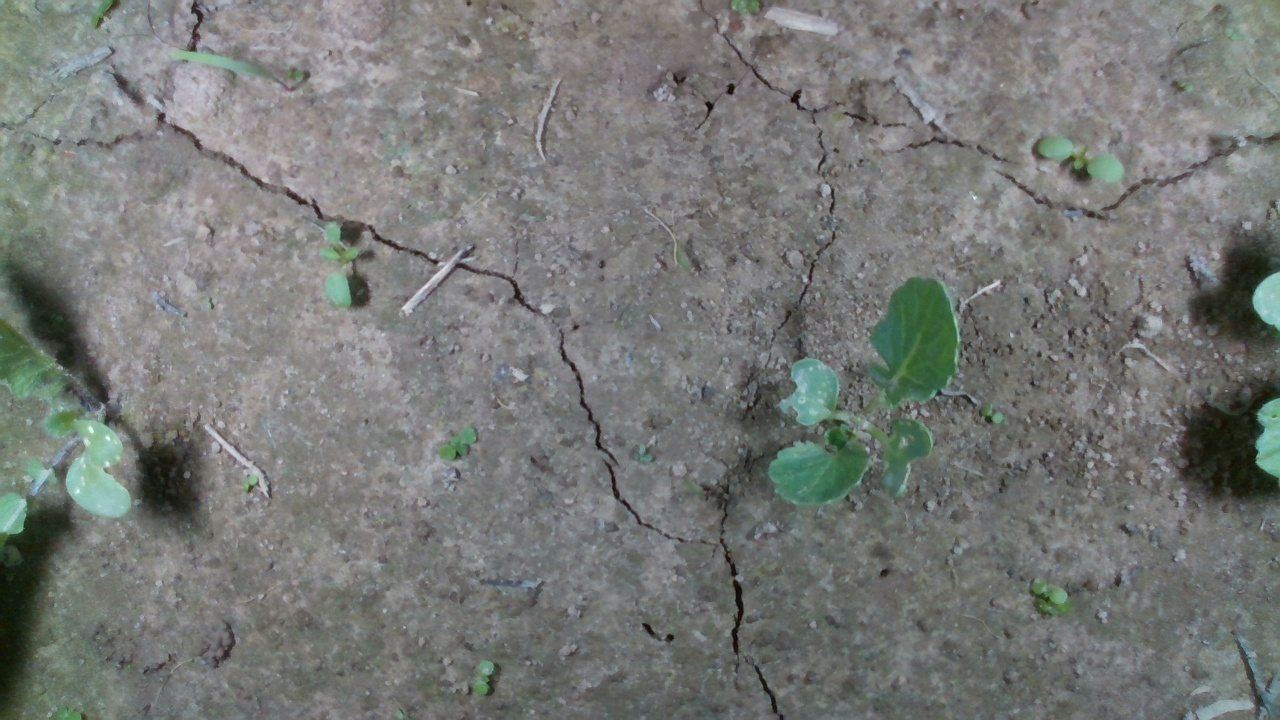weed: (1035, 133, 1127, 184), (317, 219, 361, 310), (437, 425, 480, 463), (469, 657, 495, 698), (978, 404, 1004, 424), (240, 474, 258, 493)
